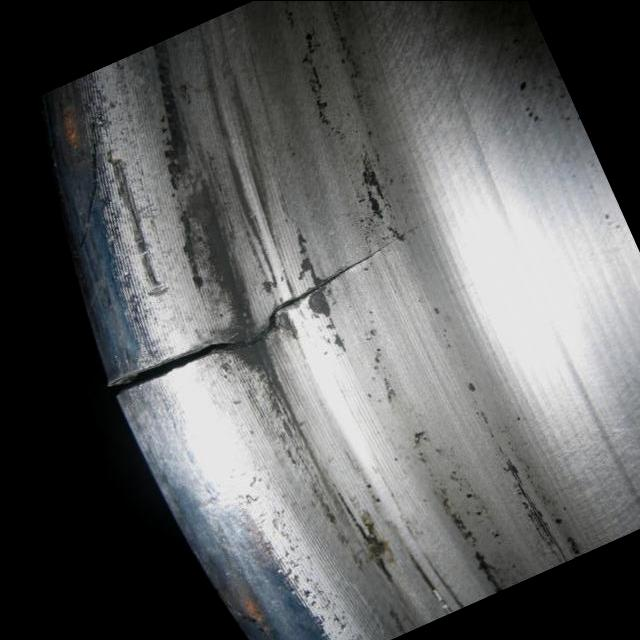defect: (103, 209, 445, 398)
